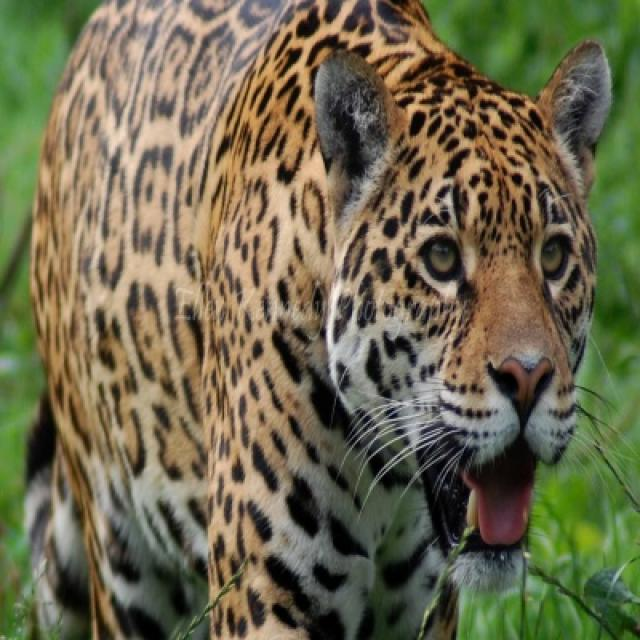Jaguar: (22, 0, 616, 638)
